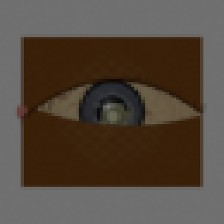corneal_ulcer: (89, 98, 140, 139)
